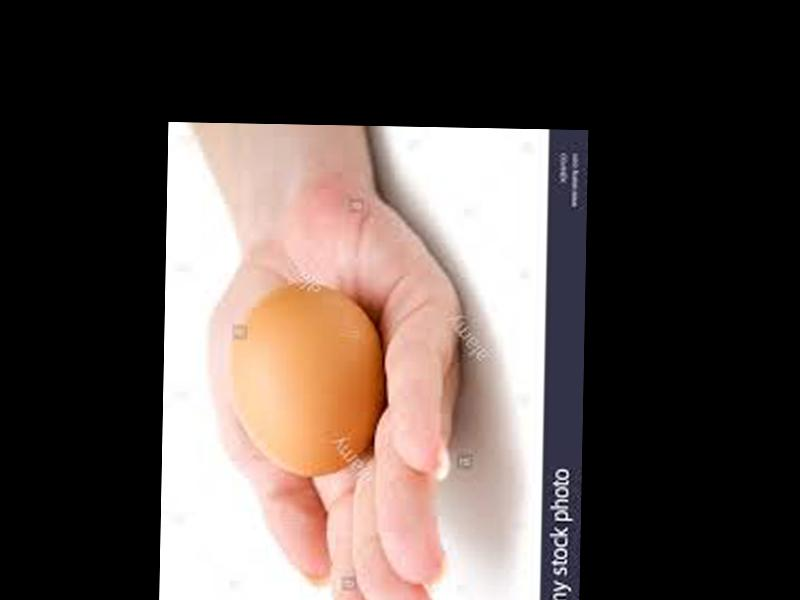Eggs: (225, 281, 384, 476)
